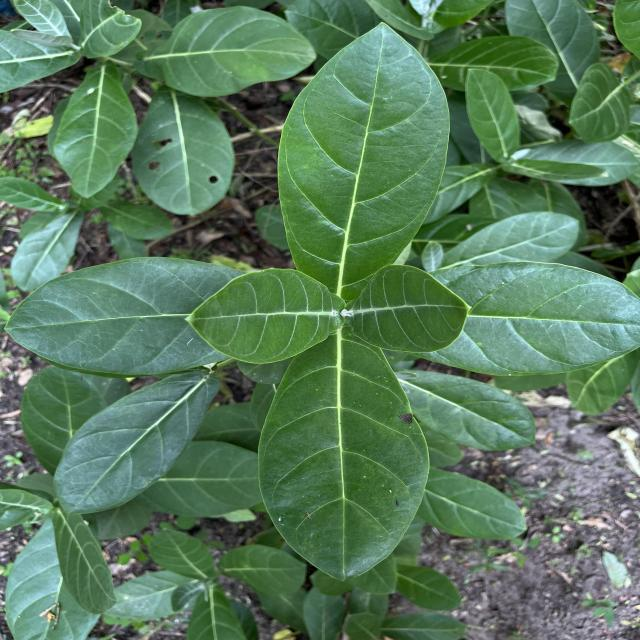Calotropis gigantea: (274, 20, 451, 294), (256, 330, 433, 584), (3, 254, 245, 376), (427, 259, 640, 378), (52, 372, 218, 515), (141, 4, 319, 99), (184, 268, 346, 366), (130, 87, 238, 216), (46, 58, 140, 200), (344, 262, 475, 355), (418, 464, 532, 542), (464, 67, 526, 157)
